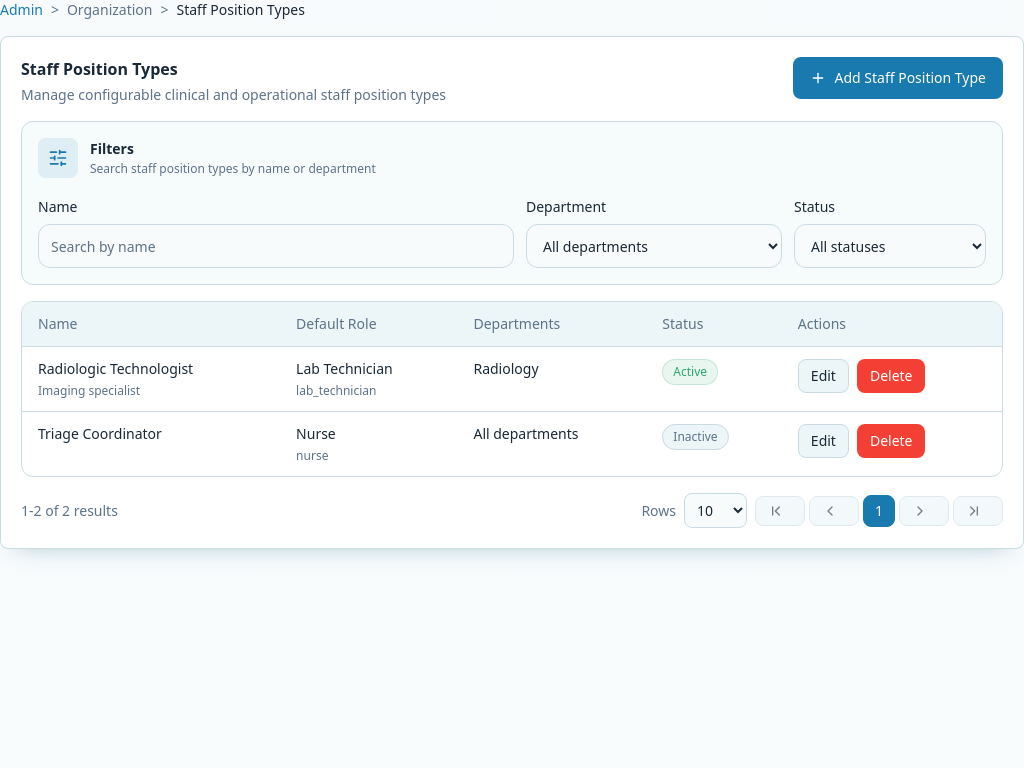
Test case: StaffPositionTypesPage › updates an existing staff position type
expect the text "Radiologic Technologist" is shown: met, box [38,359,193,378]
Click the button "Edit" in the row of "Radiologic Technologist" at point(823, 376), box [798,359,849,393]
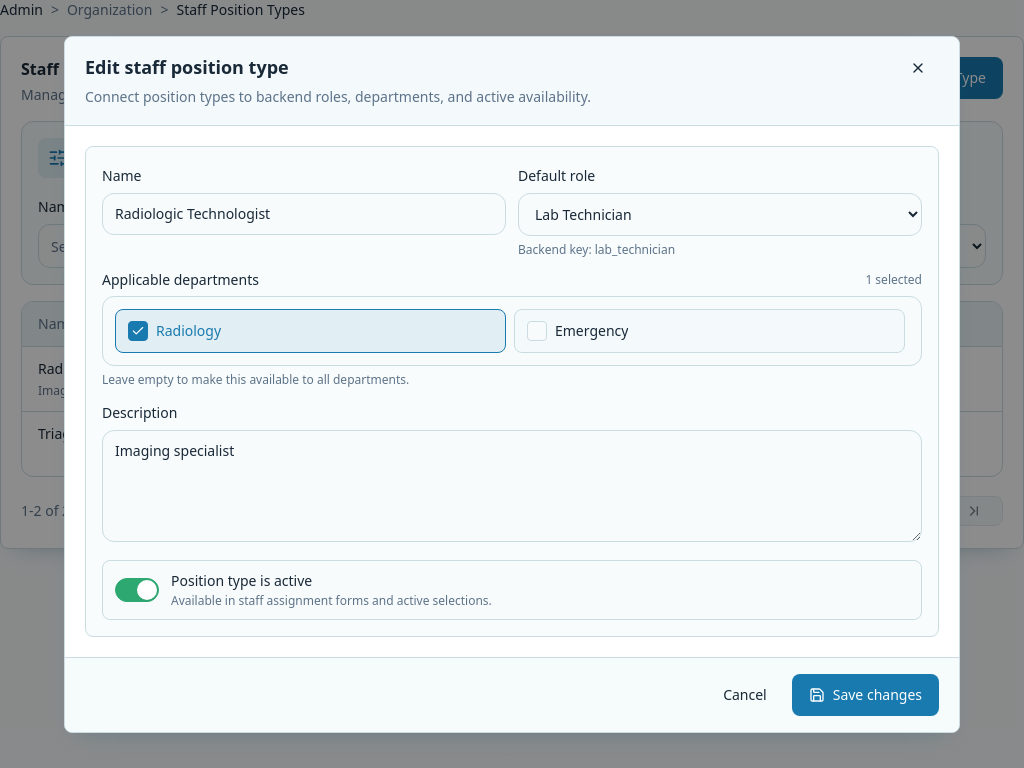
Replace the text in the field with id "staff-position-type-name" with "Senior Radiologic Technologist" at point(304, 214), box [102,192,506,234]
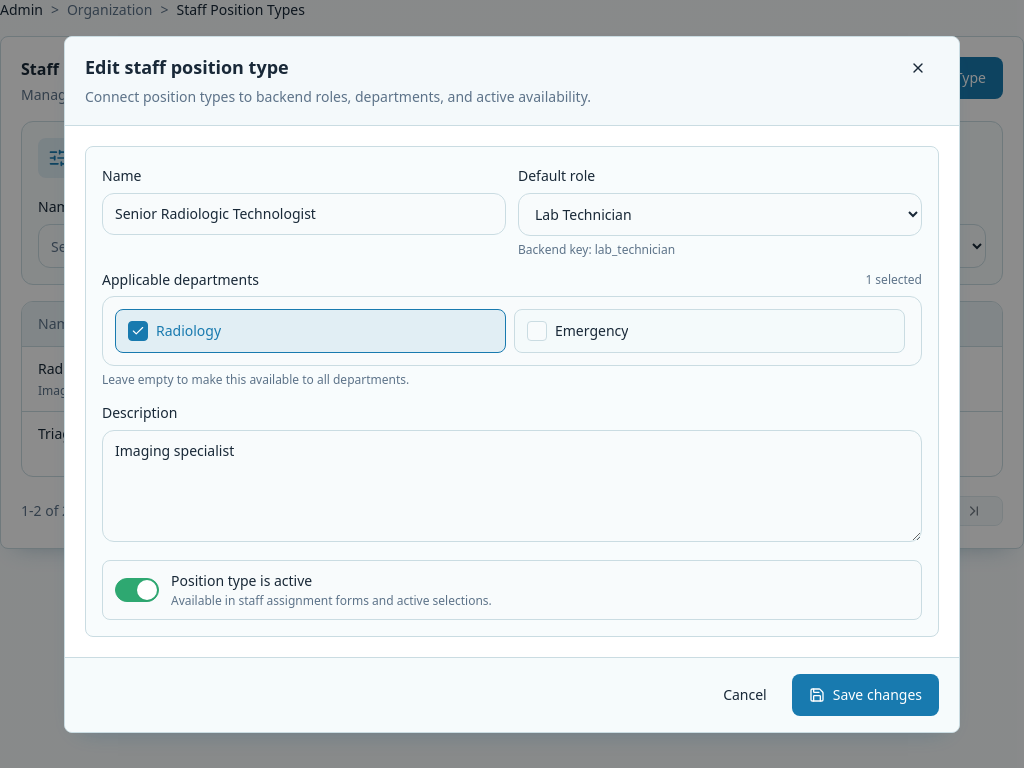
Click the button "Save changes" at point(865, 694), box [792,674,939,716]
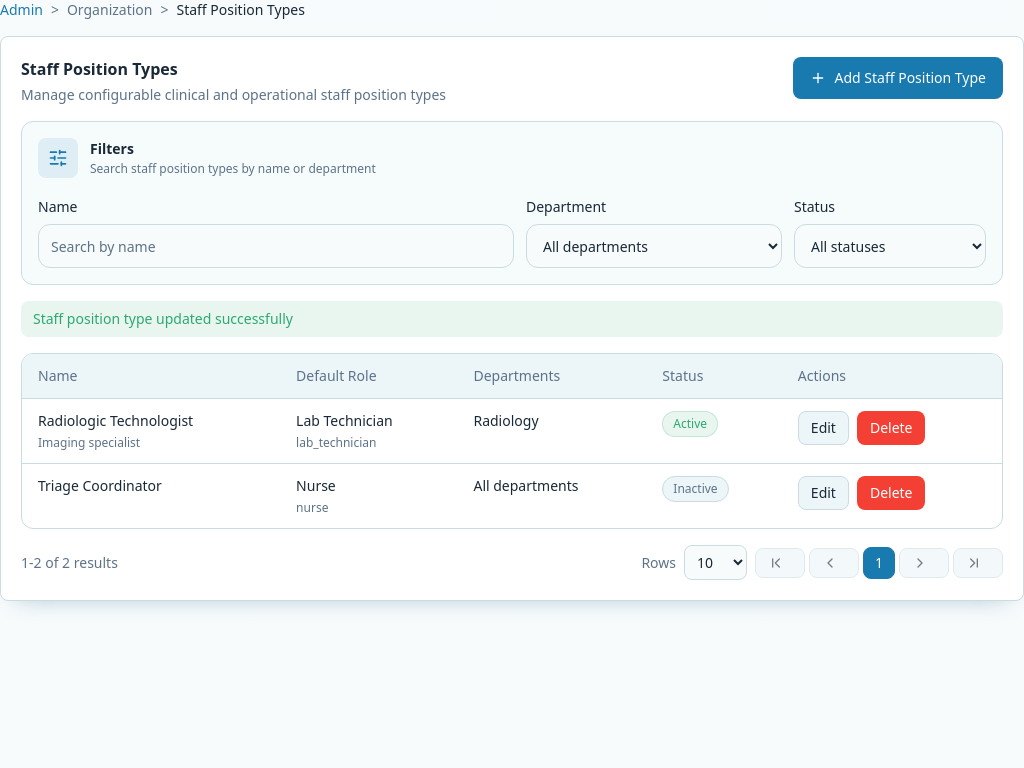
expect the text "Staff position type updated successfully" is shown: met, box [21,301,1003,337]
